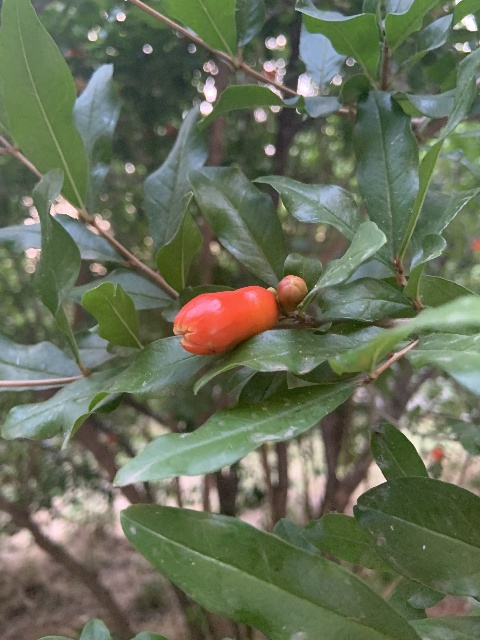bud: (174, 285, 278, 355), (276, 274, 307, 312)
